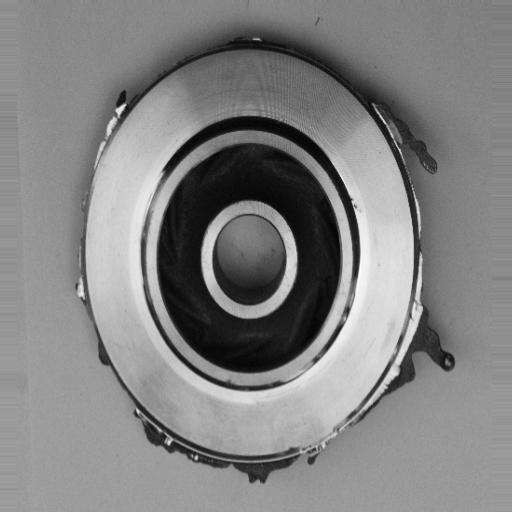casting_with_burr: (72, 34, 460, 486)
scratch: (272, 356, 320, 394)
